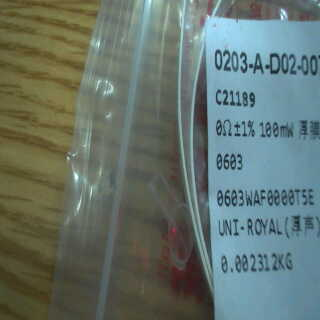0R: (214, 112, 297, 176)
